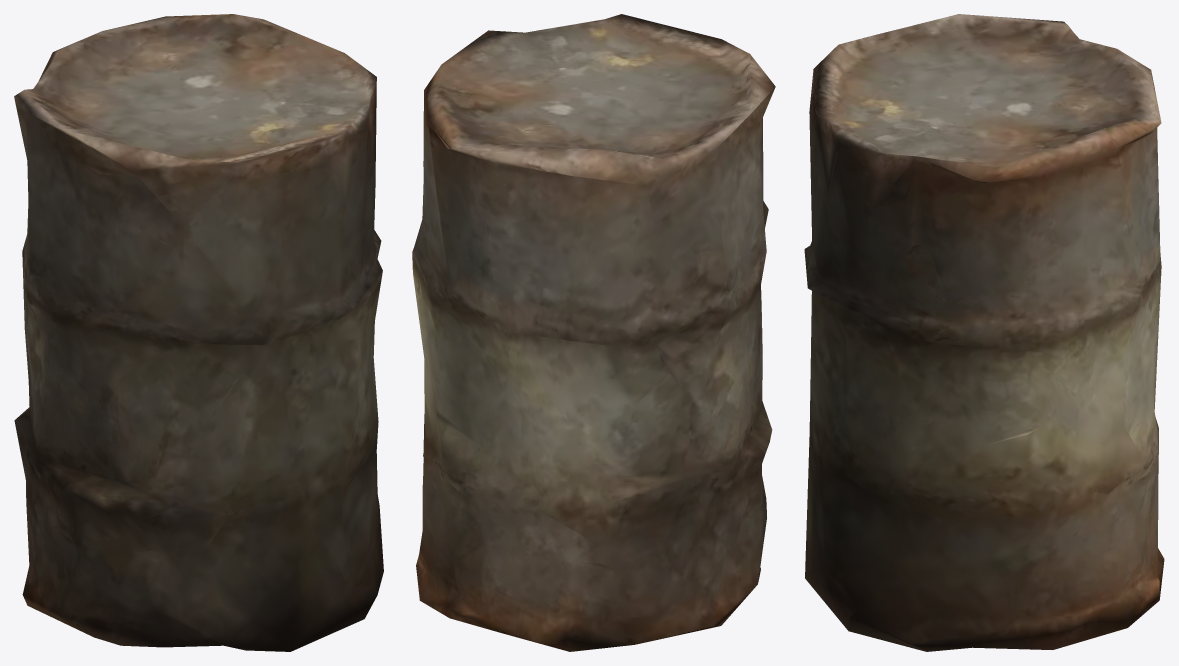
Rendered from e_barrel.glb.
The picture shows the model from 3 angles, left to right: view 1: azimuth 30°, elevation 25°; view 2: azimuth 150°, elevation 25°; view 3: azimuth 270°, elevation 25°; orthographic projection. The views are drawn at different scales.
Parts seen in each view (by area): view 1: tripo_node_5efdf83d-dff7-40cb-b1f7-55387abfbf1d; view 2: tripo_node_5efdf83d-dff7-40cb-b1f7-55387abfbf1d; view 3: tripo_node_5efdf83d-dff7-40cb-b1f7-55387abfbf1d.
Part boxes in pixels (<box>): tripo_node_5efdf83d-dff7-40cb-b1f7-55387abfbf1d: <box>14,14,383,651</box>; tripo_node_5efdf83d-dff7-40cb-b1f7-55387abfbf1d: <box>412,14,775,651</box>; tripo_node_5efdf83d-dff7-40cb-b1f7-55387abfbf1d: <box>804,14,1164,651</box>.
Bounding box in the file's own units: 0.6629 × 1 × 0.6501.
1 material, 1 textured.
